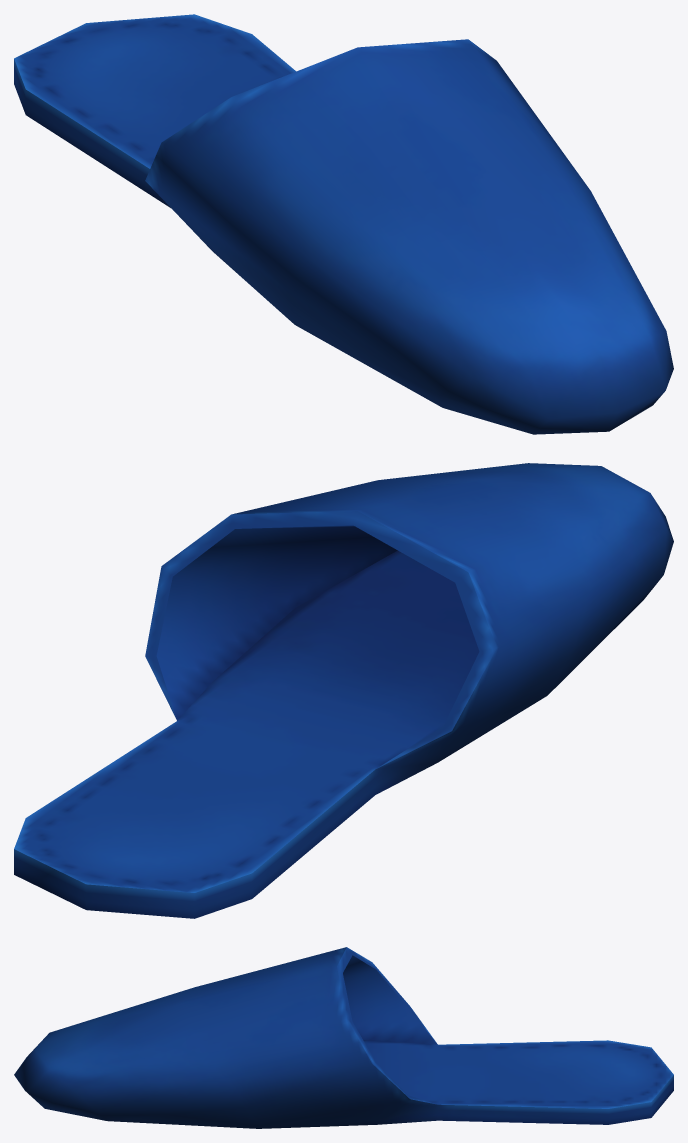
File: set_slippers_03.fbx
The picture shows the model from 3 angles, top to bottom: view 1: azimuth 30°, elevation 25°; view 2: azimuth 150°, elevation 25°; view 3: azimuth 270°, elevation 25°; orthographic projection. The views are drawn at different scales.
Visible parts, largest first — view 1: set_slippers_03; view 2: set_slippers_03; view 3: set_slippers_03.
Part boxes in pixels (box(x1,y1,x2,y2)): set_slippers_03: box(14, 14, 673, 434); set_slippers_03: box(14, 463, 673, 918); set_slippers_03: box(14, 947, 673, 1128).
Bounding box in the file's own units: 9.79 × 5.59 × 26.9.
